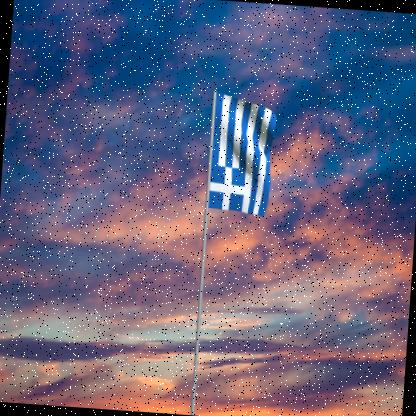gr: (210, 94, 280, 221)
